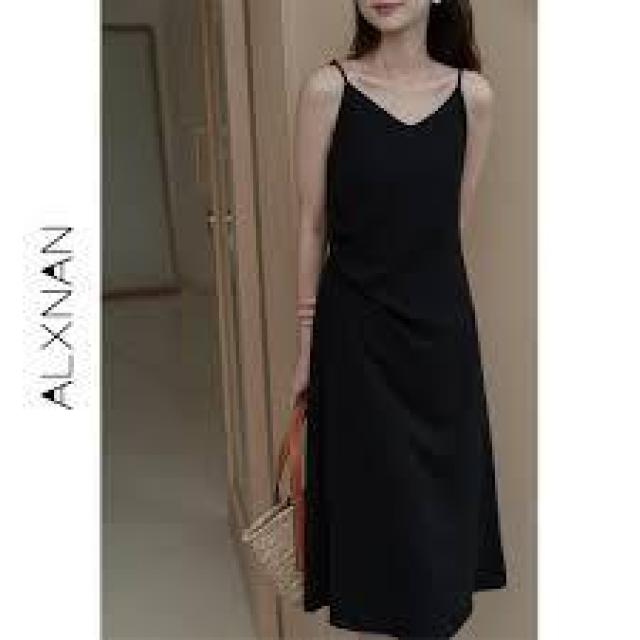dress: (297, 54, 508, 640)
